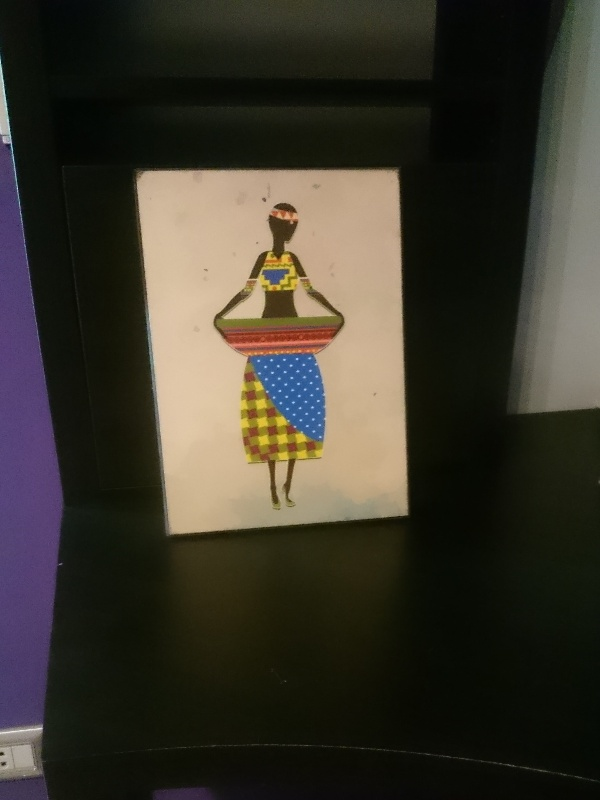my image: (140, 165, 401, 535)
